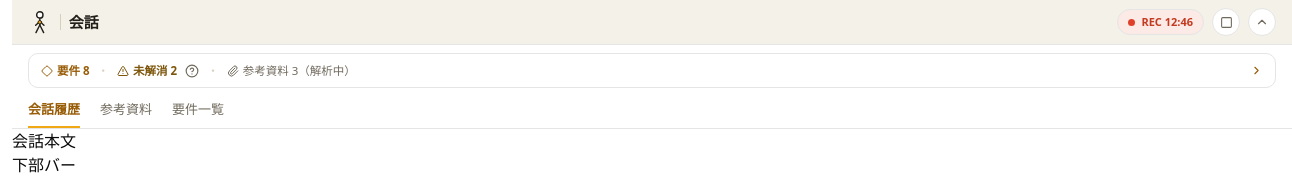
Test: ConversationShell（共通シェル） › ミニ状況の『参考資料』タップで参考資料、『要件』タップで要件一覧タブへ移動
The width and height of the screenshot is (1292, 190).
Click the button "参考資料 3（解析中）": (291, 71) [227,62,356,79]
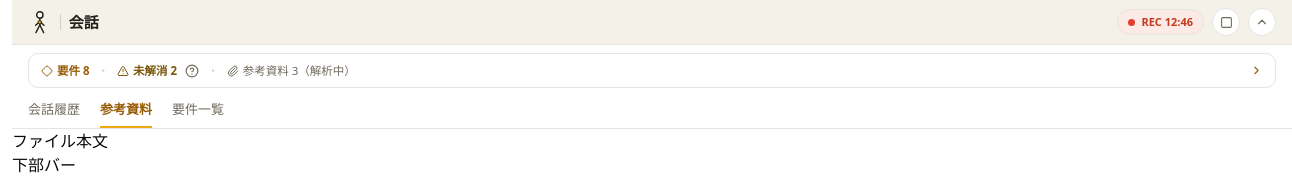
Expected: the text "ファイル本文" is shown, [12,130,108,152]
Click the button "要件 8": (65, 71) [41,62,90,79]
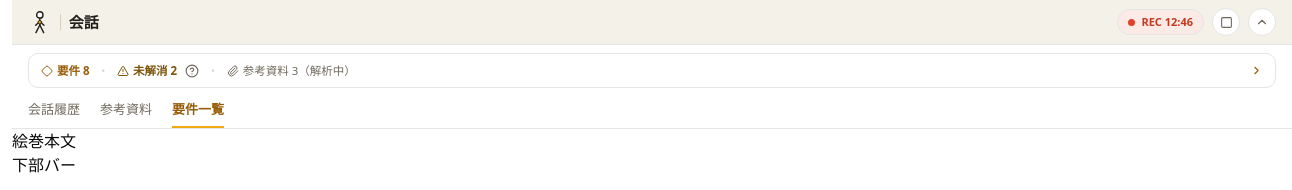
Expected: the text "絵巻本文" is shown, [12,130,76,152]
